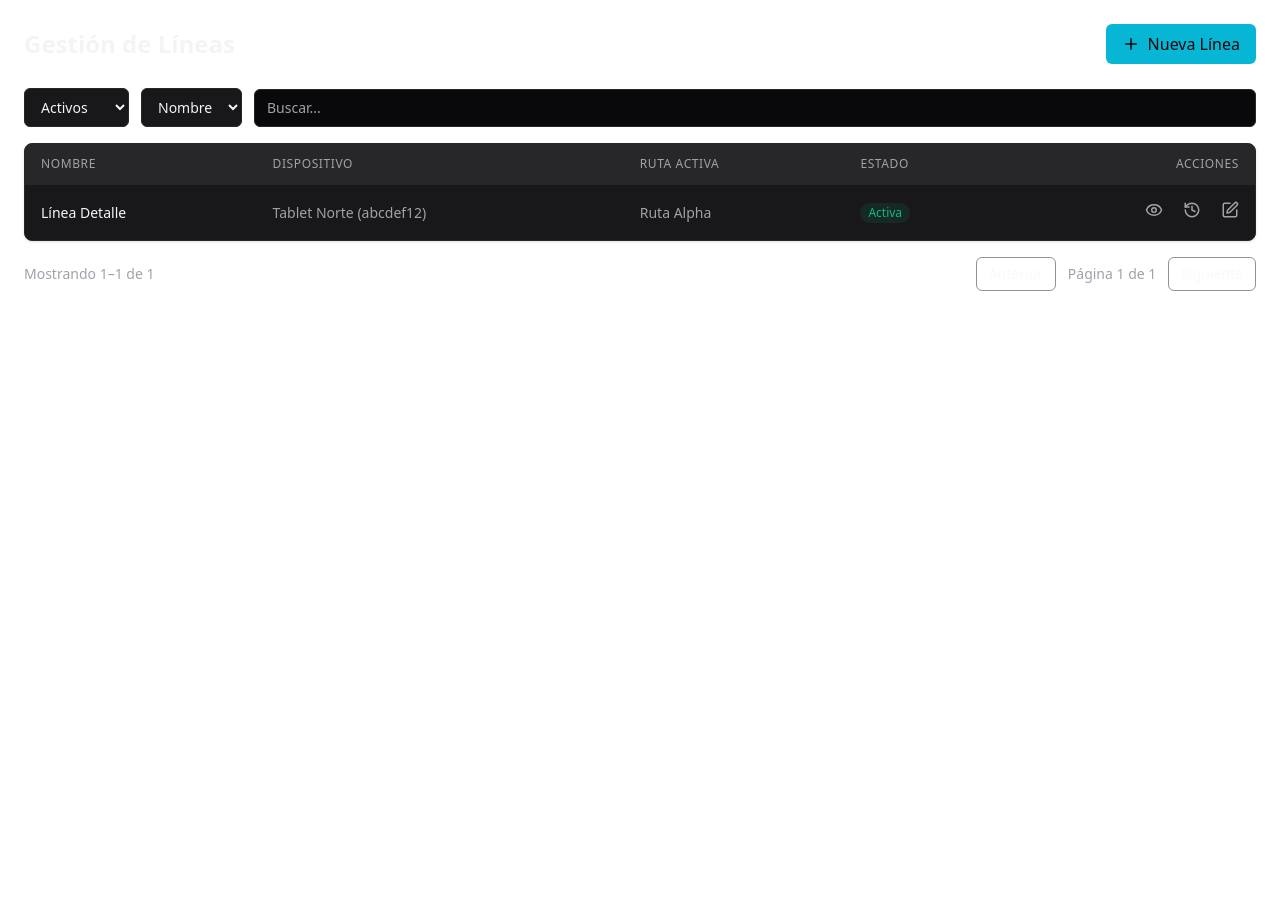
LineasPage detail drawer › shows every field in full without opening the edit form, then jumps to the history
The image size is (1280, 900).
Expected: the text "Línea Detalle" is shown, 25,184 -> 257,240
Click the button named "Ver detalle". click: point(1154, 210)
box: 1145,201 -> 1163,219
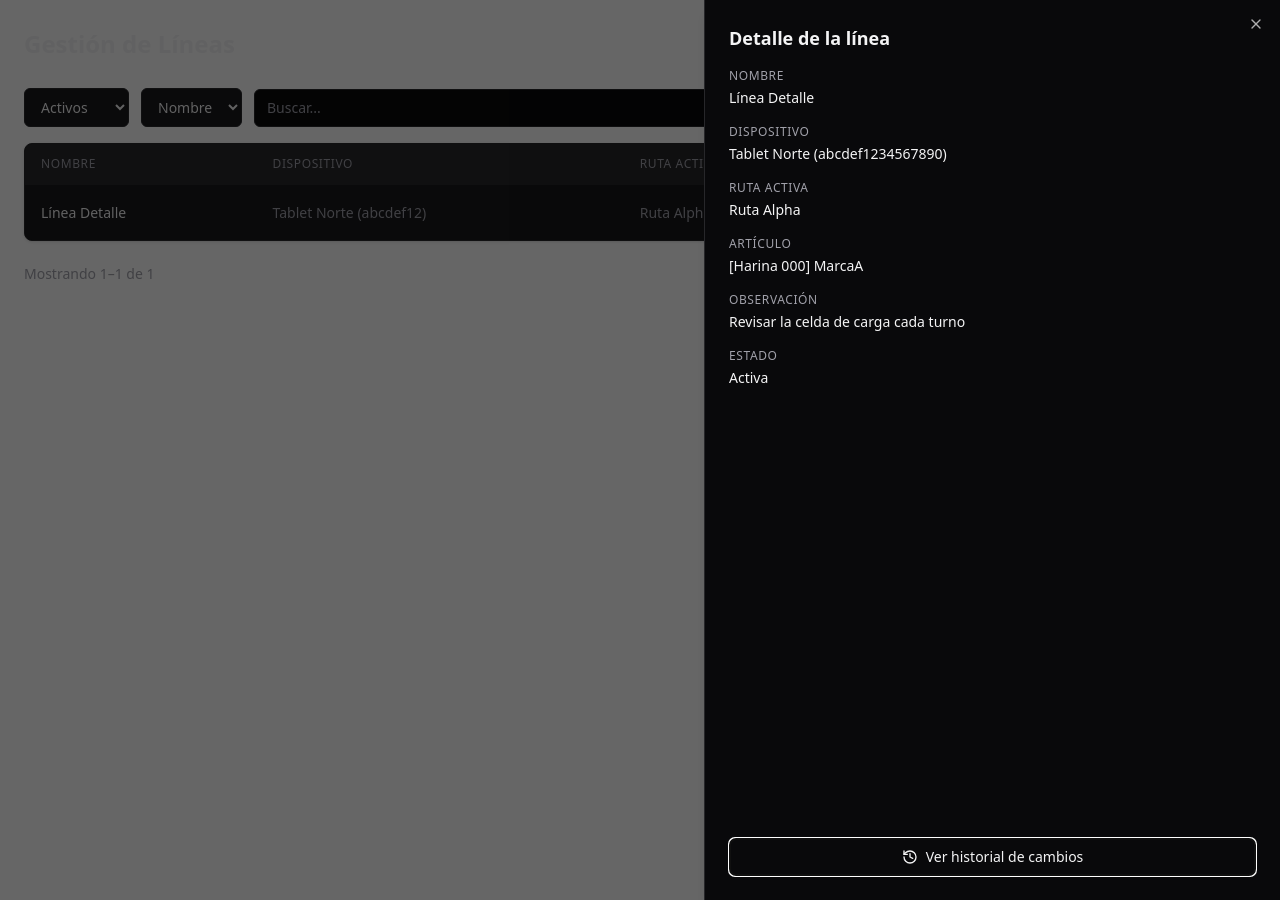
Now the heading "Detalle de la línea" is shown, box 729,26 -> 890,50
Now the text "Línea Detalle" is shown once, box 729,88 -> 814,107
Now the text "Tablet Norte (abcdef1234567890)" is shown, box 729,144 -> 947,163
Click the button "Ver historial de cambios". click: point(992, 857)
box: 729,838 -> 1256,876
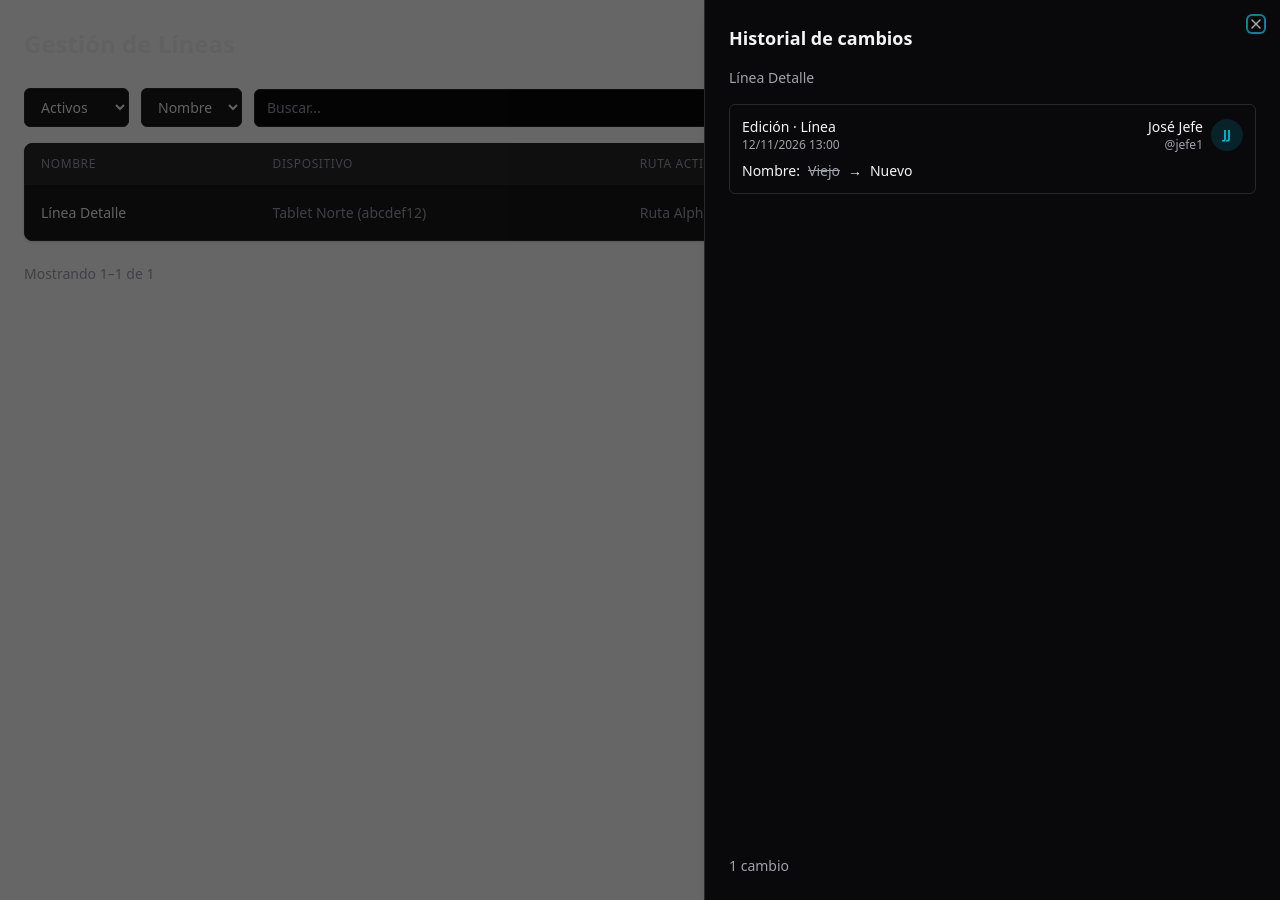
Now the text "José Jefe" is shown, box 1148,117 -> 1203,137
